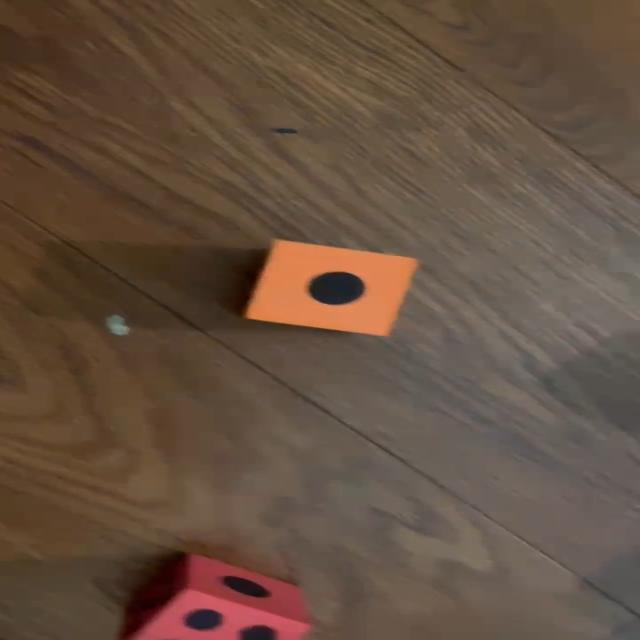red_block: (117, 553, 311, 640)
